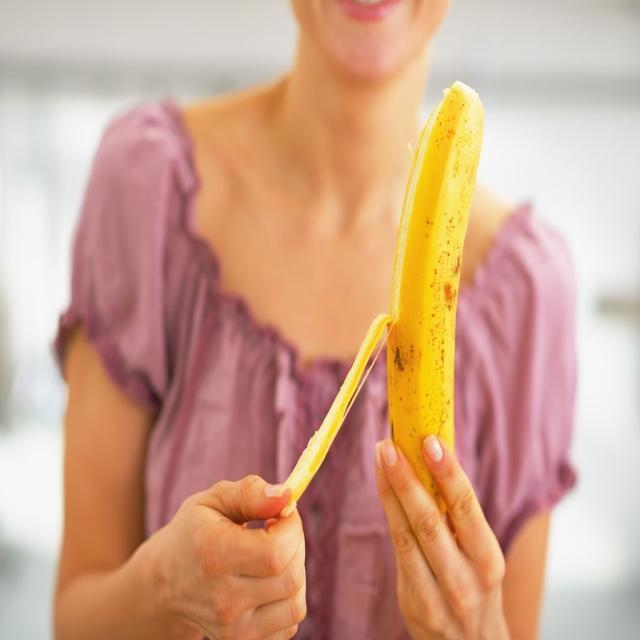Banana: (364, 81, 518, 509)
